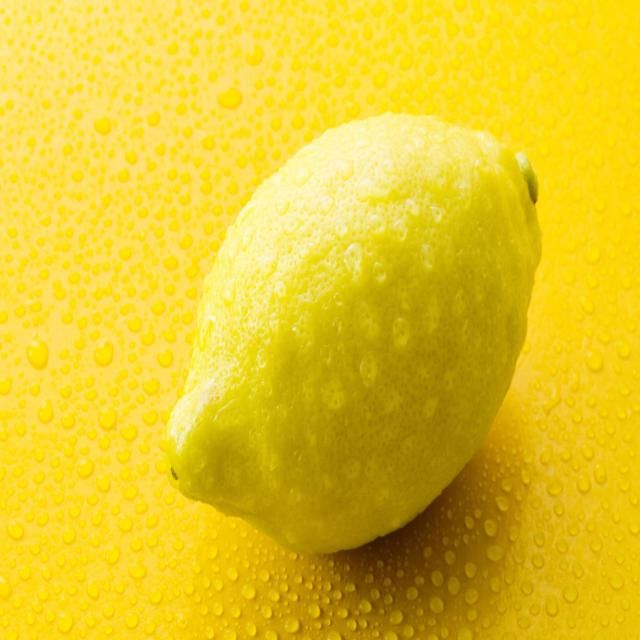lemon: (154, 105, 550, 562)
